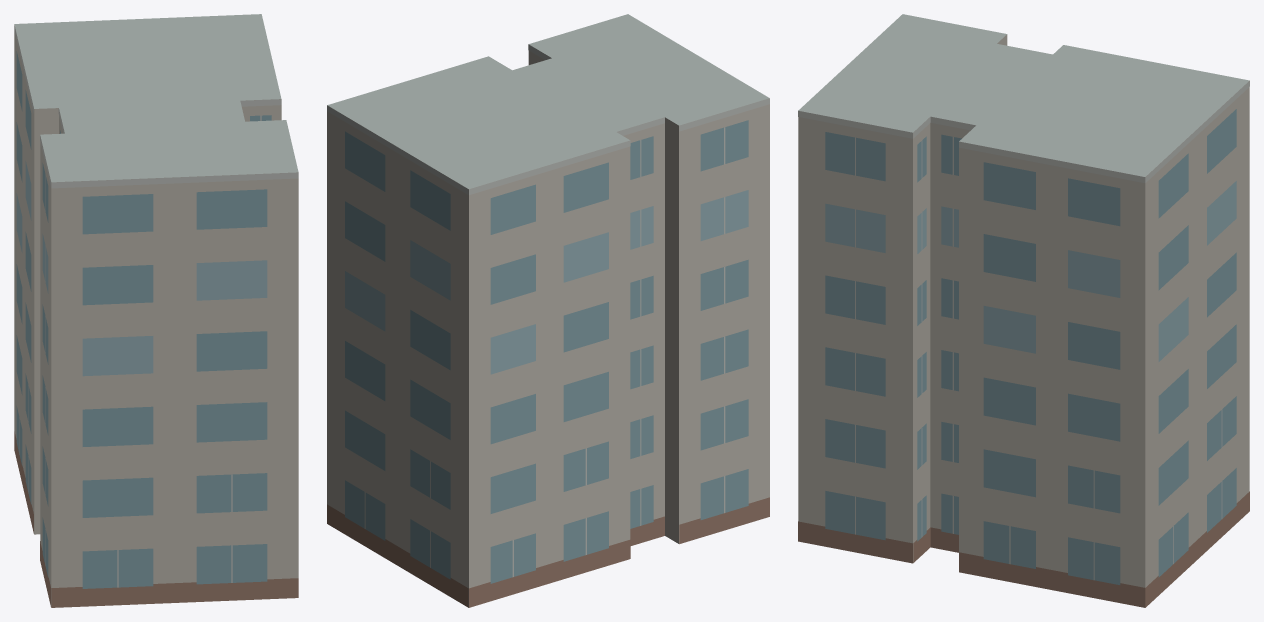
The model's file is survey-upis-32669217.glb.
3 views of the same model, side by side, from view 1: azimuth 30°, elevation 25°; view 2: azimuth 150°, elevation 25°; view 3: azimuth 270°, elevation 25° (orthographic). The views are drawn at different scales.
Parts seen in each view (by area): view 1: survey-upis-32669217.tmp; view 2: survey-upis-32669217.tmp; view 3: survey-upis-32669217.tmp.
Boxes of the visible parts, x1=… form: survey-upis-32669217.tmp: x1=14, y1=14, x2=298, y2=607; survey-upis-32669217.tmp: x1=327, y1=14, x2=769, y2=607; survey-upis-32669217.tmp: x1=798, y1=14, x2=1249, y2=607.
Bounding box in the file's own units: 13.82 × 17 × 16.16.
